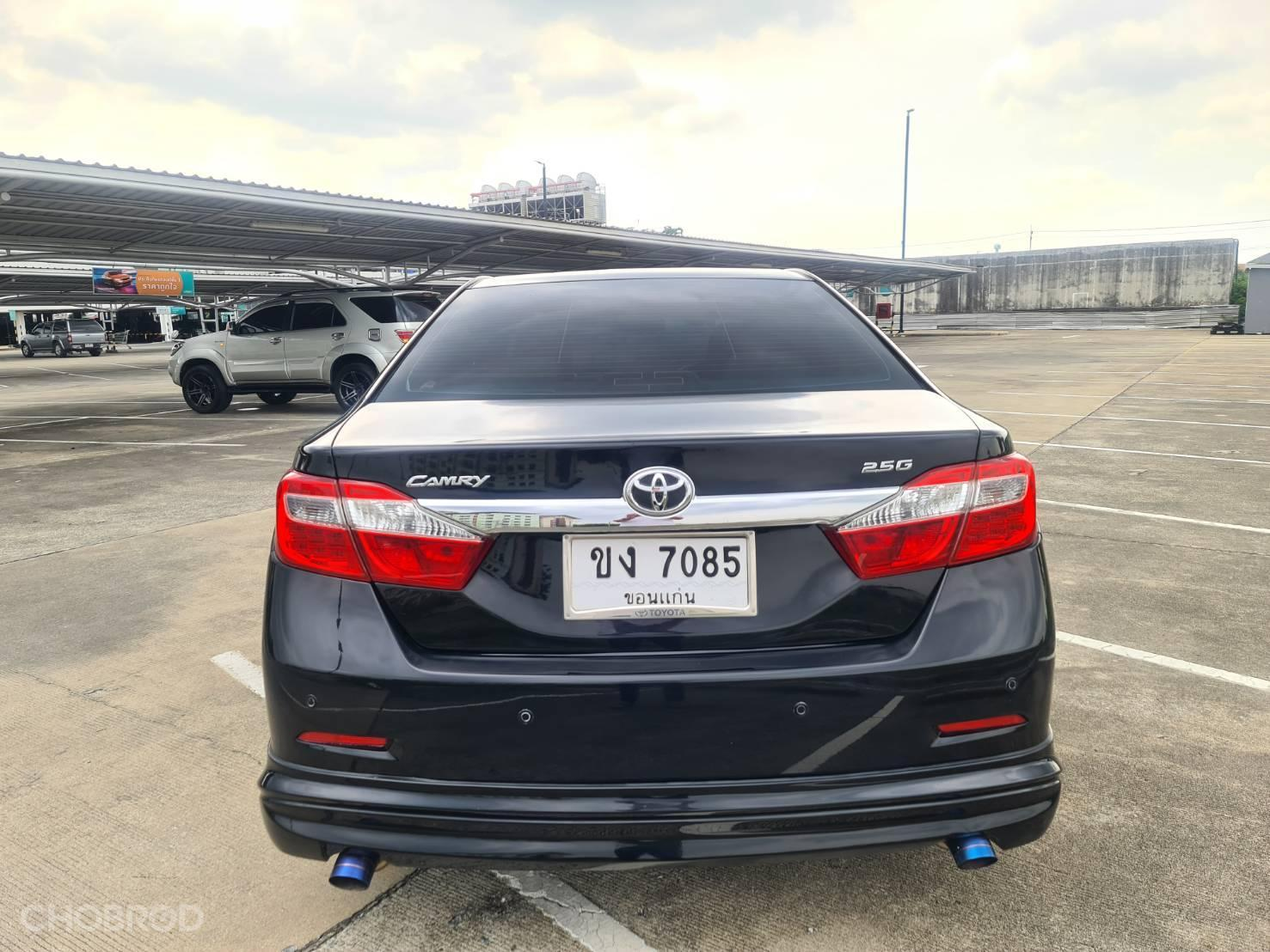license-plate: (559, 526, 762, 624)
